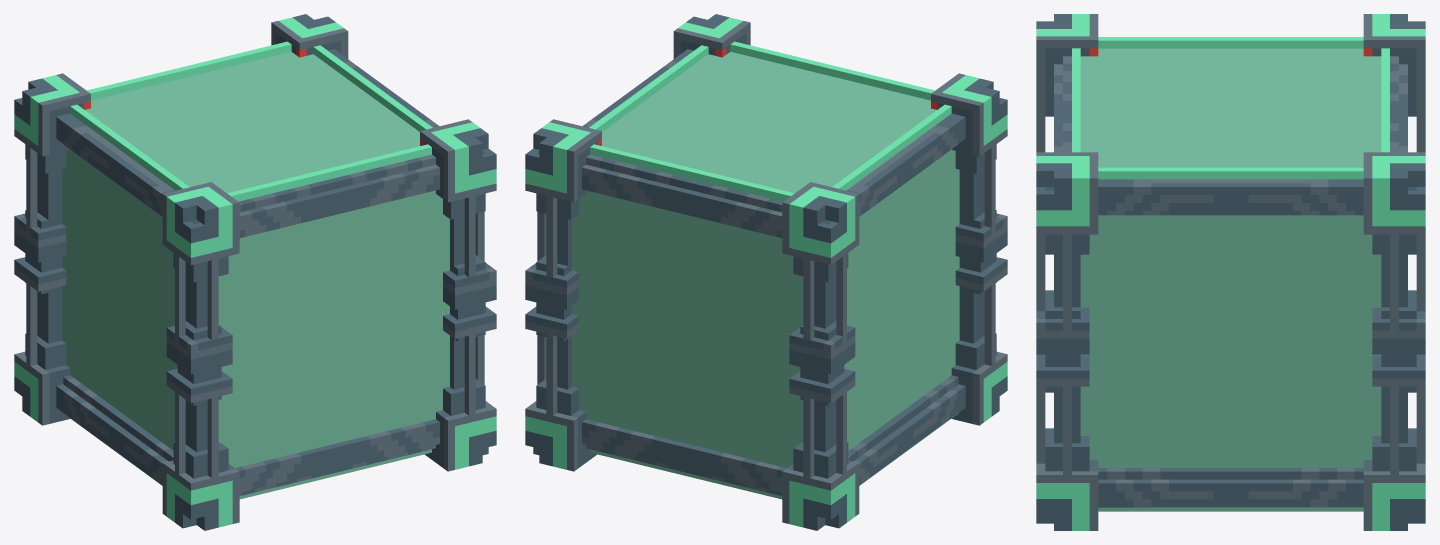
3 renders of one model, left to right at view 1: azimuth 30°, elevation 25°; view 2: azimuth 150°, elevation 25°; view 3: azimuth 270°, elevation 25°, orthographic. The views are drawn at different scales.
Visible parts, largest first — view 1: OUTER-GLASS, FRAME; view 2: OUTER-GLASS, FRAME; view 3: OUTER-GLASS, FRAME.
Boxes of the visible parts, left/top/right/bottom form: OUTER-GLASS: left=14, top=17, right=496, bottom=527; FRAME: left=14, top=14, right=496, bottom=530; OUTER-GLASS: left=525, top=17, right=1007, bottom=527; FRAME: left=525, top=14, right=1007, bottom=530; OUTER-GLASS: left=1036, top=14, right=1425, bottom=530; FRAME: left=1036, top=14, right=1425, bottom=530.
Size of the model in its own units: 4.4 by 4.4 by 4.4.
2 materials, 2 textured.
